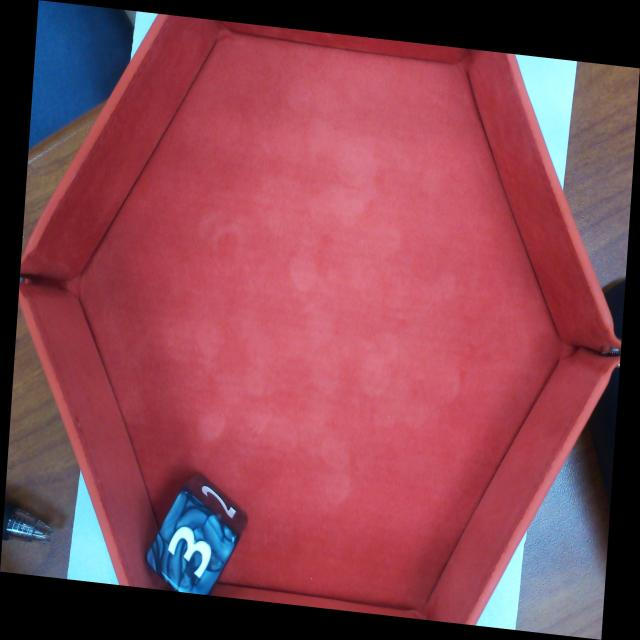dice: (143, 486, 241, 613)
